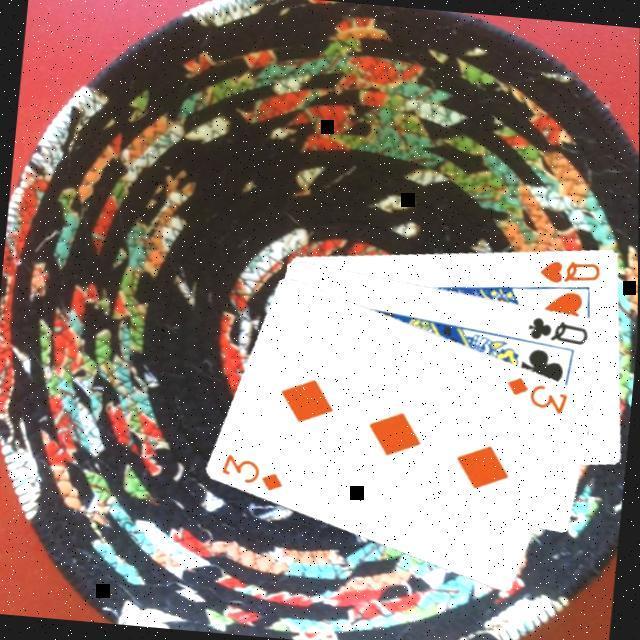3D: (502, 372, 573, 420), (219, 450, 290, 496)
QC: (525, 312, 593, 349)
QH: (538, 254, 606, 291)
